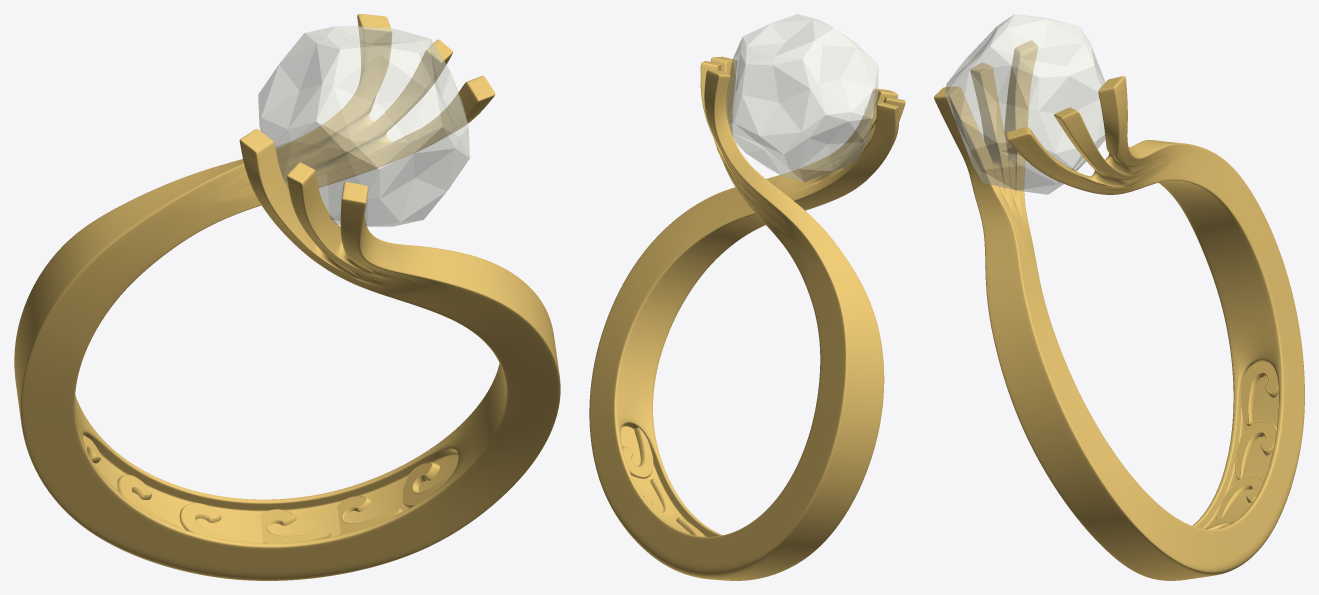
Rendered from jewel-6.glb.
The picture shows the model from 3 angles, left to right: view 1: azimuth 30°, elevation 25°; view 2: azimuth 150°, elevation 25°; view 3: azimuth 270°, elevation 25°; orthographic projection. The views are drawn at different scales.
Visible parts, largest first — view 1: Tube002, Hedra001, Plane004, Plane006, Plane003, Plane005, Plane007; view 2: Tube002, Hedra001, Plane006, Plane005; view 3: Tube002, Hedra001, Plane008, Plane007, Plane003.
Boxes of the visible parts, x1=… form: Tube002: x1=14, y1=14, x2=560, y2=580; Hedra001: x1=258, y1=26, x2=469, y2=226; Plane004: x1=260, y1=509, x2=331, y2=543; Plane006: x1=402, y1=462, x2=452, y2=508; Plane003: x1=179, y1=503, x2=250, y2=542; Plane005: x1=336, y1=496, x2=402, y2=534; Plane007: x1=117, y1=474, x2=180, y2=528; Tube002: x1=589, y1=56, x2=905, y2=580; Hedra001: x1=726, y1=14, x2=878, y2=182; Plane006: x1=622, y1=427, x2=653, y2=478; Plane005: x1=643, y1=478, x2=675, y2=515; Tube002: x1=934, y1=40, x2=1304, y2=580; Hedra001: x1=945, y1=14, x2=1105, y2=194; Plane008: x1=1241, y1=361, x2=1278, y2=425; Plane007: x1=1235, y1=421, x2=1276, y2=479; Plane003: x1=1216, y1=477, x2=1263, y2=519.
Size of the model in its own units: 0.0309 by 0.042 by 0.0269.
